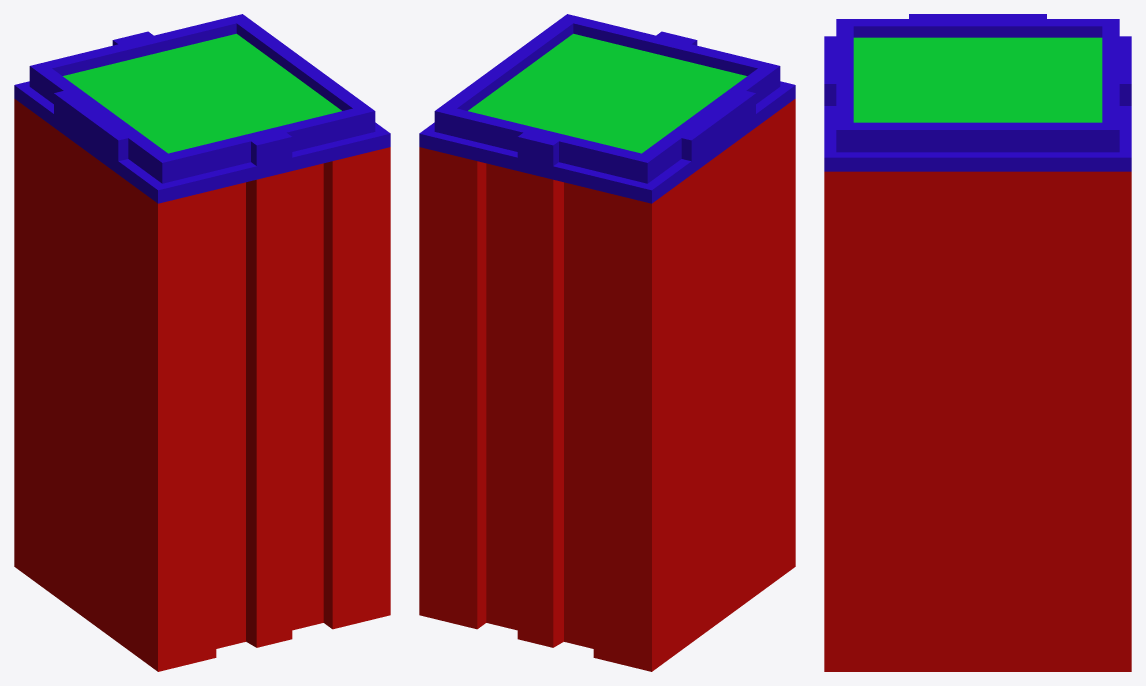
File: Building3.fbx
3 views of the same model, side by side, from view 1: azimuth 30°, elevation 25°; view 2: azimuth 150°, elevation 25°; view 3: azimuth 270°, elevation 25° (orthographic). The views are drawn at different scales.
Visible parts, largest first — view 1: Cube.002; view 2: Cube.002; view 3: Cube.002.
Part boxes in pixels (x1,y1,x2,y2): Cube.002: (14, 14, 390, 671); Cube.002: (419, 14, 795, 671); Cube.002: (824, 14, 1131, 671).
Size of the model in its own units: 908 by 1873 by 973.
